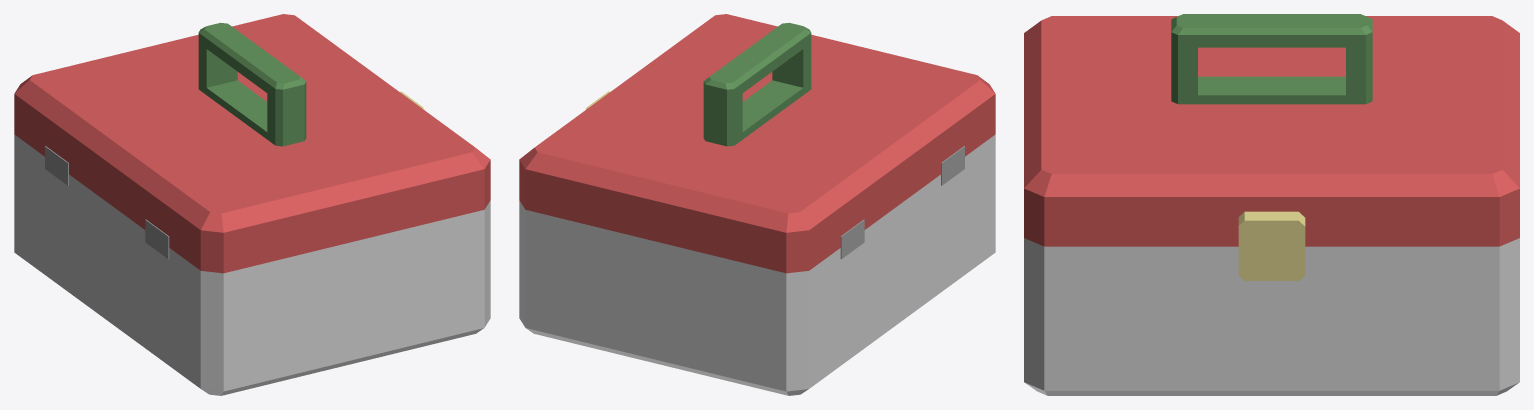
The model's file is QQBOX.fbx.
3 views of the same model, side by side, from view 1: azimuth 30°, elevation 25°; view 2: azimuth 150°, elevation 25°; view 3: azimuth 270°, elevation 25° (orthographic). The views are drawn at different scales.
Parts seen in each view (by area): view 1: polySurface1; view 2: polySurface1; view 3: polySurface1.
Part boxes in pixels (x1,y1,x2,y2): polySurface1: (14,14,490,395); polySurface1: (519,14,995,395); polySurface1: (1024,14,1519,395).
Bounding box in the file's own units: 21.11 × 15.92 × 24.28.
